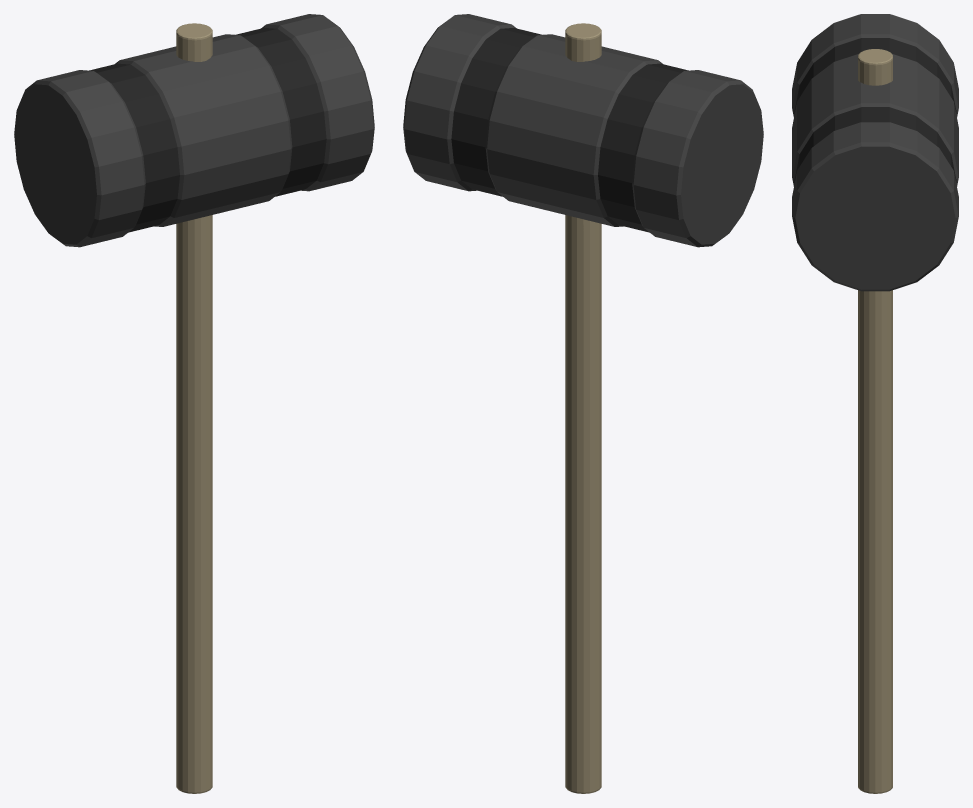
File: hammer.fbx
The picture shows the model from 3 angles, left to right: view 1: azimuth 30°, elevation 25°; view 2: azimuth 150°, elevation 25°; view 3: azimuth 270°, elevation 25°; orthographic projection. The views are drawn at different scales.
Parts seen in each view (by area): view 1: Cylinder001; view 2: Cylinder001; view 3: Cylinder001.
Boxes of the visible parts, x1,y1,x2,y2 form: Cylinder001: (14,14,374,793); Cylinder001: (403,14,763,793); Cylinder001: (792,14,958,793).
Bounding box in the file's own units: 372 × 967 × 200.
